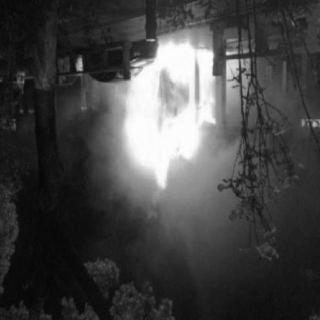Fire: (119, 49, 223, 183)
